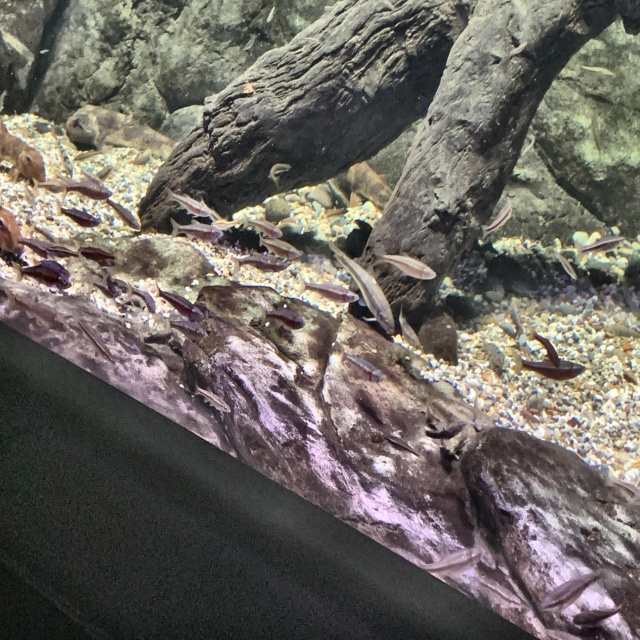fish: (327, 237, 396, 337), (539, 565, 609, 616), (468, 566, 530, 616), (0, 122, 46, 183), (419, 543, 485, 583), (1, 289, 56, 333), (297, 271, 360, 309), (378, 244, 437, 283), (517, 350, 586, 383), (154, 279, 204, 322), (79, 317, 118, 370), (15, 259, 72, 293), (338, 343, 384, 384), (62, 169, 114, 203), (166, 186, 215, 222), (169, 216, 225, 245), (231, 252, 291, 279), (480, 194, 516, 237), (571, 603, 624, 631), (258, 231, 303, 263), (192, 382, 233, 417), (578, 232, 625, 261), (259, 302, 306, 331), (381, 430, 423, 462), (355, 392, 389, 429), (104, 197, 141, 231), (0, 206, 25, 256), (421, 417, 469, 442), (166, 314, 208, 342), (244, 210, 283, 240), (58, 202, 100, 229), (531, 329, 560, 367), (399, 306, 423, 350), (129, 282, 158, 315), (554, 249, 582, 283), (18, 234, 51, 260), (45, 242, 81, 261), (32, 175, 64, 196), (469, 397, 488, 432), (268, 163, 292, 189), (78, 245, 115, 261), (91, 279, 115, 301), (211, 215, 241, 231), (324, 208, 349, 220)
